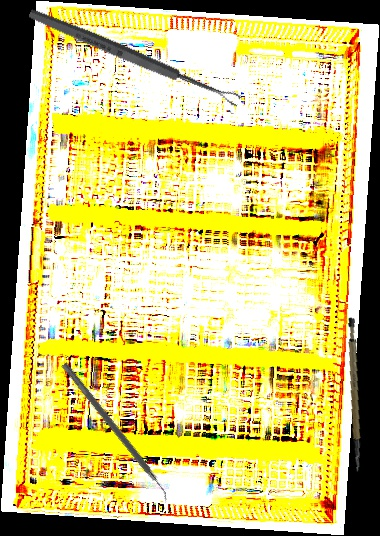Scalpel Handle: (330, 316, 376, 474)
Spatula Surgical: (55, 361, 175, 506)
Surgical Spoon: (27, 6, 242, 109)
